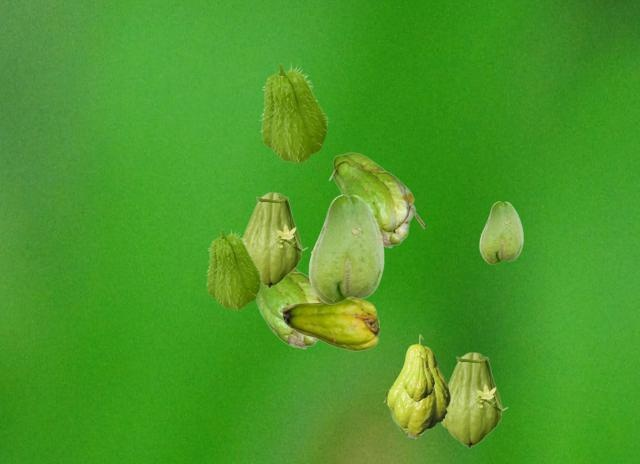sayote: (328, 152, 423, 247), (308, 194, 383, 303), (259, 62, 328, 162), (440, 352, 507, 447), (387, 334, 449, 434), (242, 192, 307, 287), (278, 298, 378, 350), (256, 268, 320, 348), (205, 228, 261, 309), (479, 201, 522, 263), (383, 389, 424, 437), (403, 351, 433, 400)
